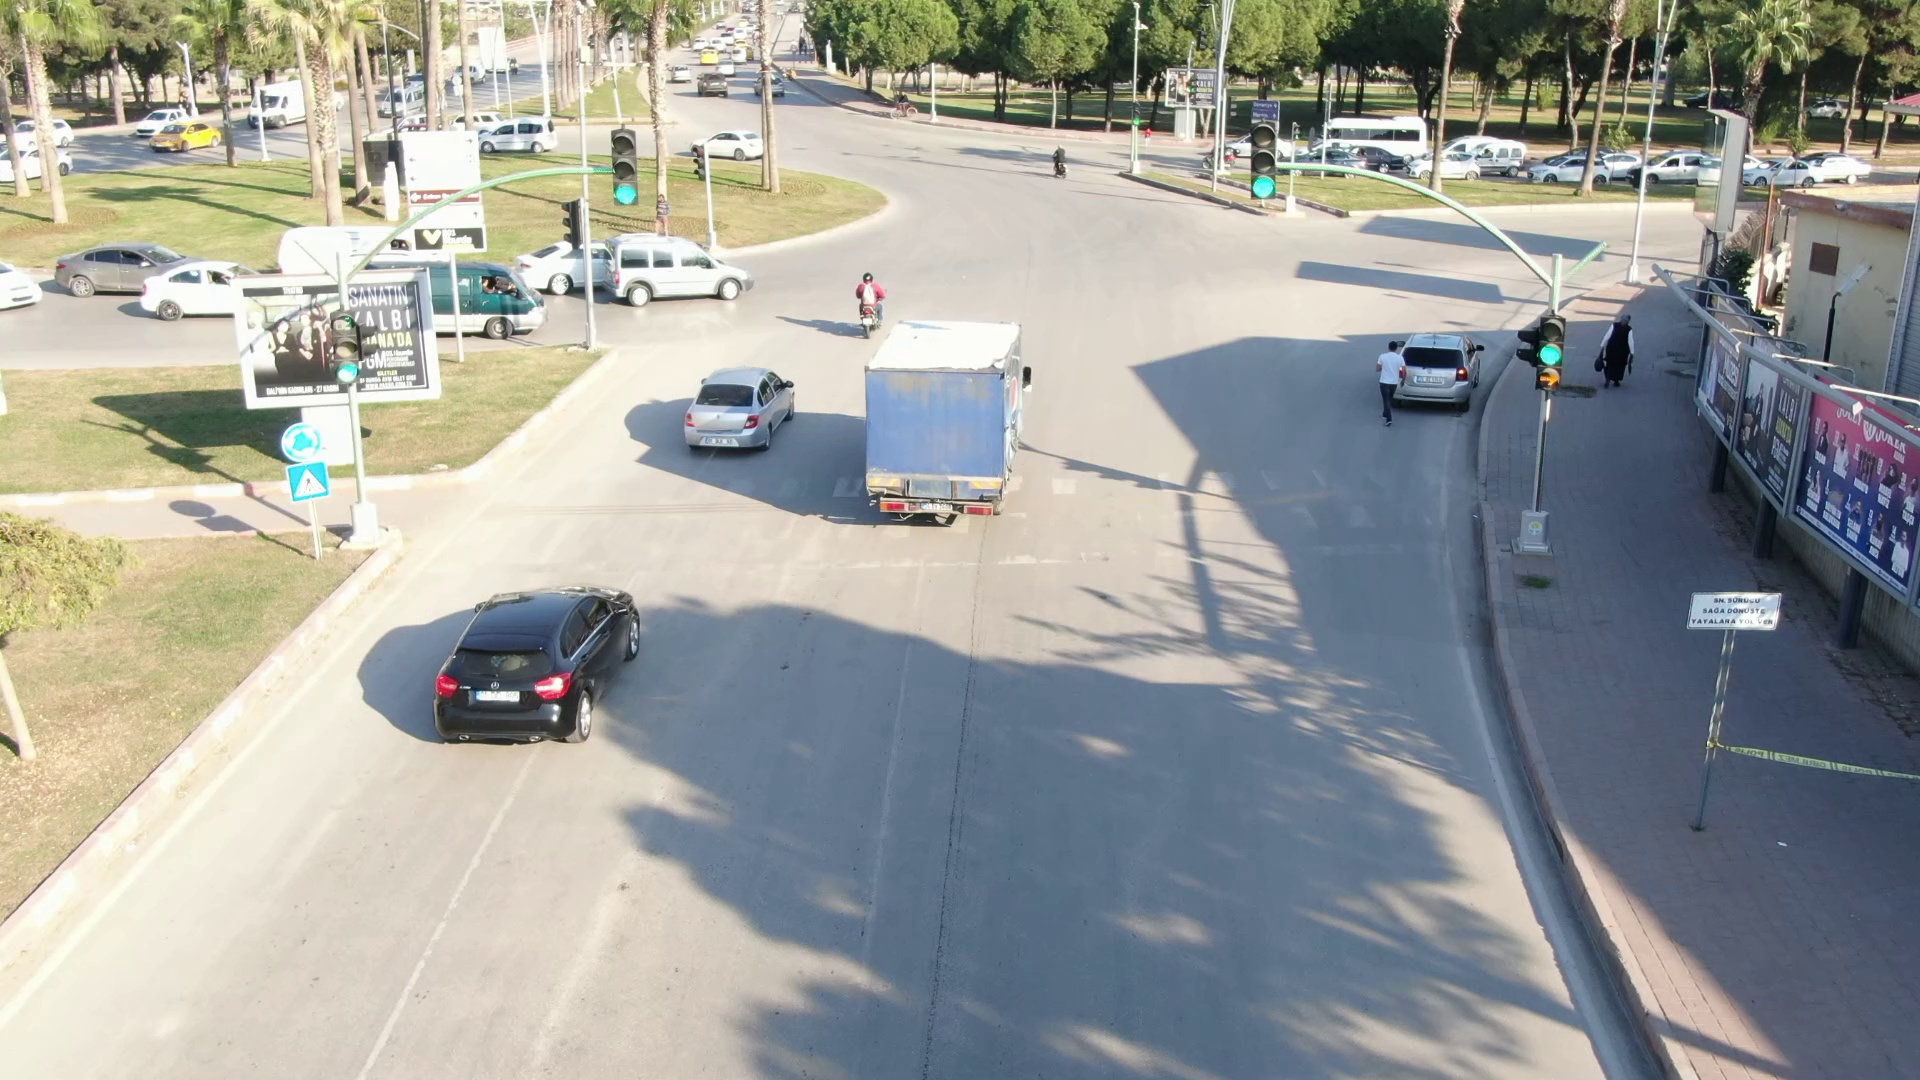car: (415, 560, 651, 758), (600, 227, 767, 316), (667, 356, 804, 462), (53, 237, 192, 304), (475, 114, 563, 160), (1512, 146, 1611, 187)
person: (1364, 323, 1414, 426), (1590, 306, 1647, 395)
